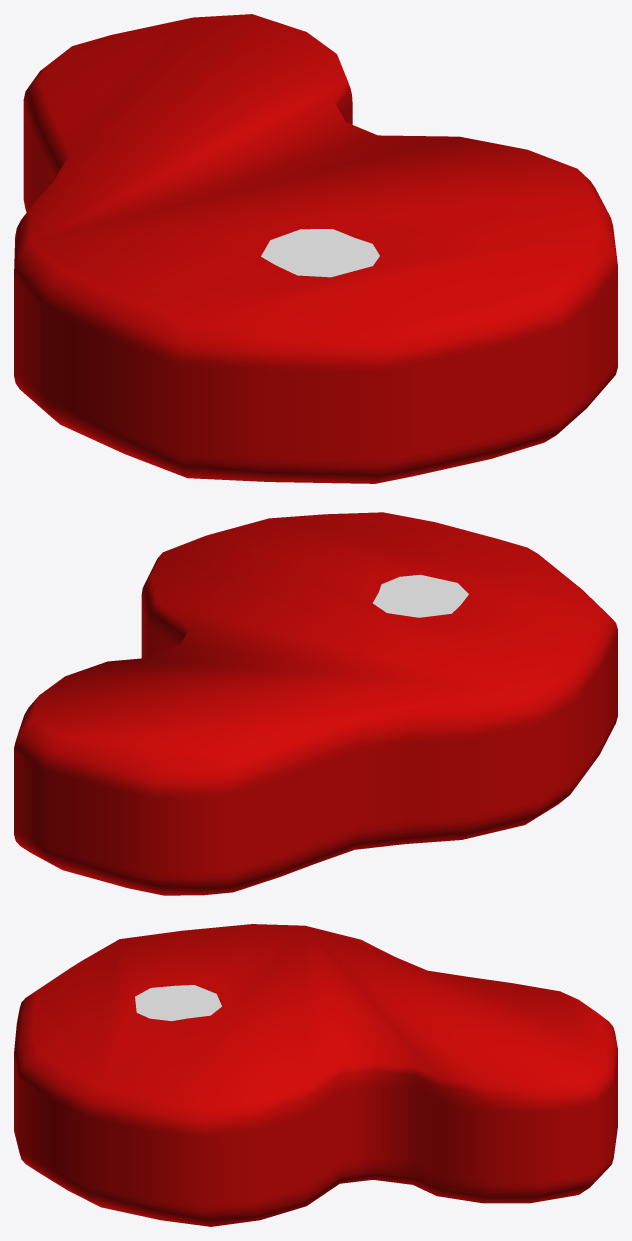
The model's file is lahma.fbx.
3 views of the same model, one above another, from view 1: azimuth 30°, elevation 25°; view 2: azimuth 150°, elevation 25°; view 3: azimuth 270°, elevation 25° (orthographic). The views are drawn at different scales.
Parts seen in each view (by area): view 1: Plane; view 2: Plane; view 3: Plane.
Part boxes in pixels (<box>): Plane: <box>14,14,617,483</box>; Plane: <box>14,512,617,895</box>; Plane: <box>14,924,617,1226</box>.
Size of the model in its own units: 132 by 37.74 by 173.
